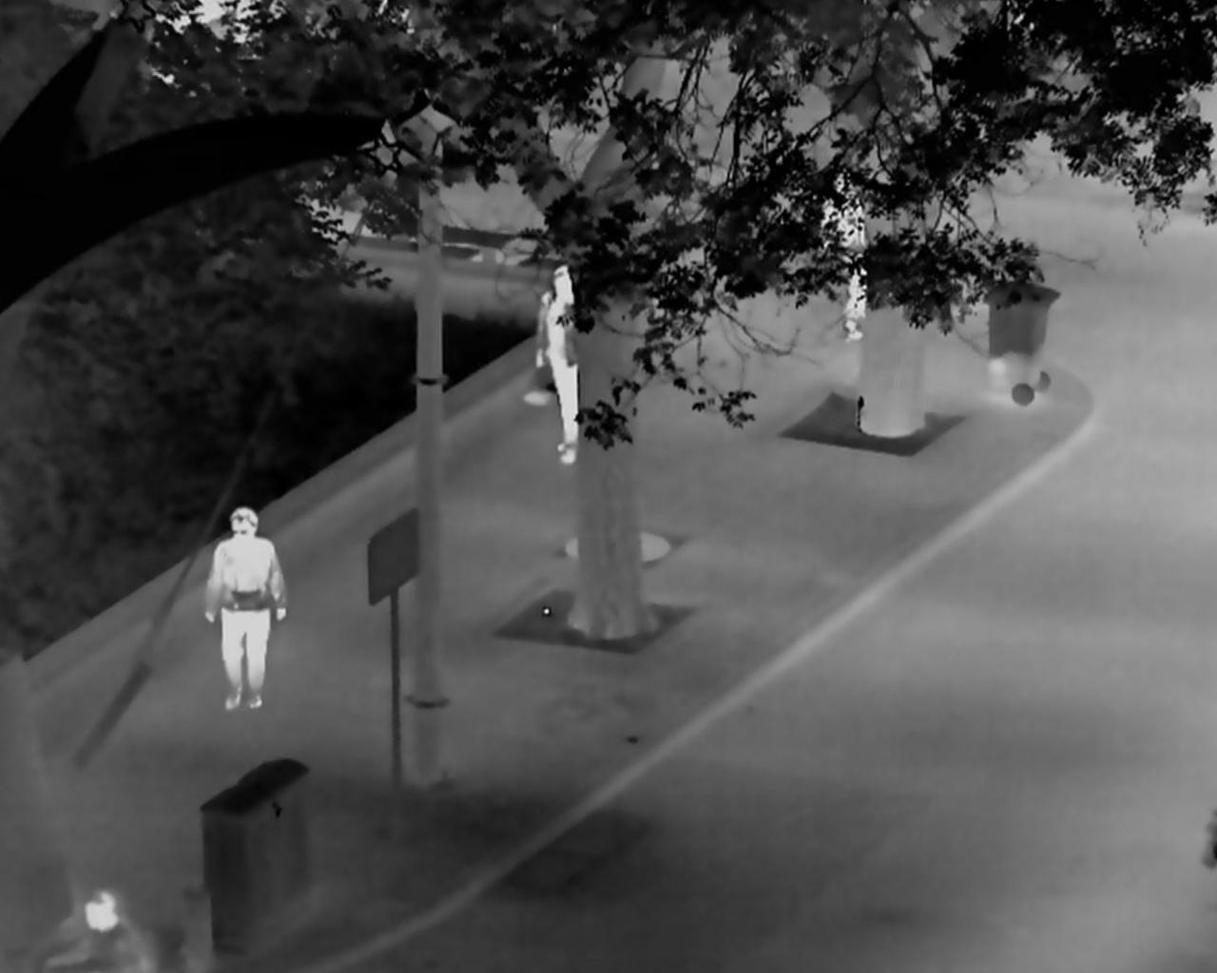person: (204, 506, 290, 710), (35, 889, 156, 973), (534, 264, 581, 465), (818, 167, 867, 342)
